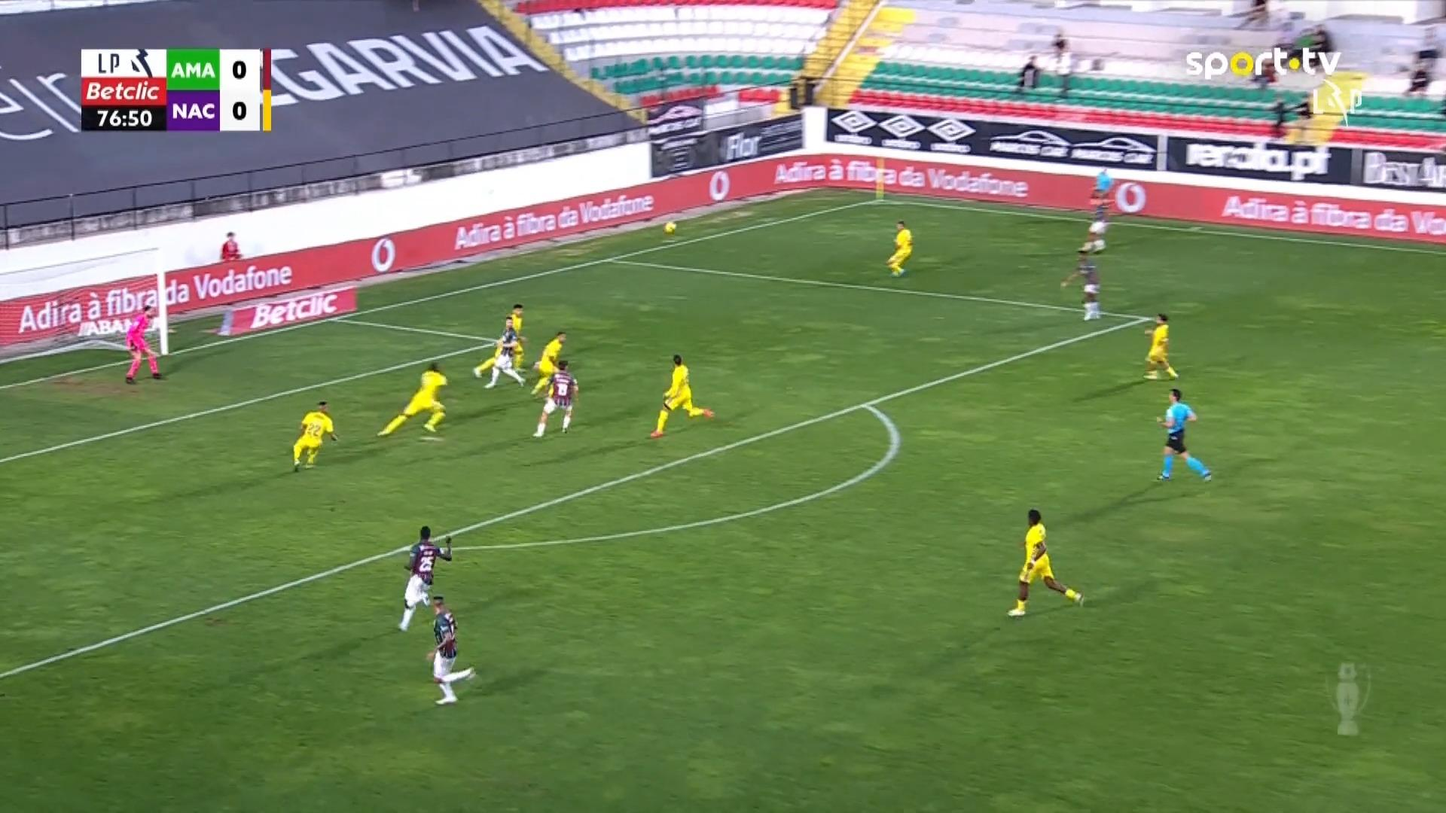ball: (664, 221, 676, 234)
goalkeeper: (124, 302, 163, 384)
player: (1006, 507, 1084, 617), (397, 524, 452, 631), (648, 353, 715, 437), (375, 360, 448, 437), (426, 595, 476, 705), (532, 358, 578, 437), (473, 323, 526, 389), (291, 400, 337, 472), (1060, 248, 1101, 321), (1142, 312, 1179, 379), (530, 330, 567, 396), (1078, 202, 1109, 254), (885, 219, 913, 276), (504, 303, 527, 367)
referee: (1154, 387, 1212, 483), (1091, 166, 1112, 202)
